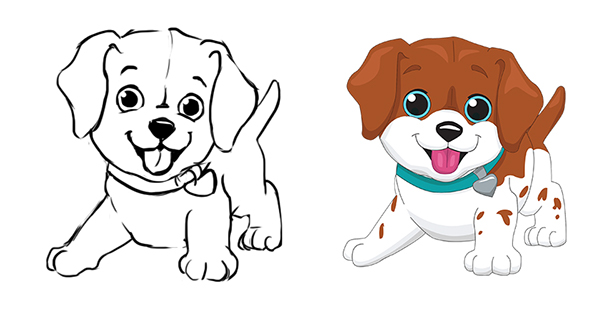dog: (41, 18, 290, 284), (341, 40, 578, 278)
